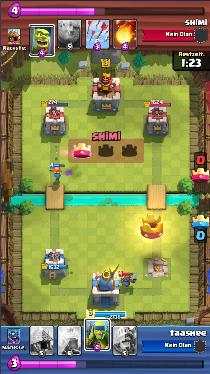ELittlePrinceSide: (50, 164, 63, 181)
OBat: (120, 272, 138, 286)
